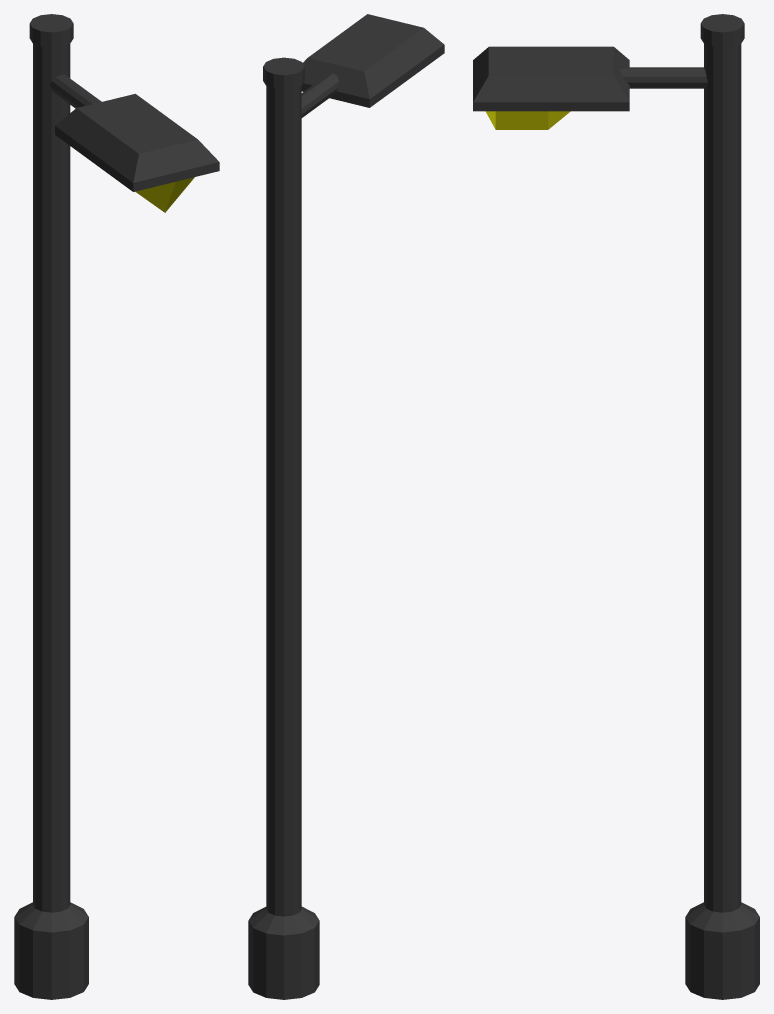
The model's file is Prop_Lamp_003.fbx.
3 views of the same model, side by side, from view 1: azimuth 30°, elevation 25°; view 2: azimuth 150°, elevation 25°; view 3: azimuth 270°, elevation 25° (orthographic). The views are drawn at different scales.
Visible parts, largest first — view 1: Prop_Lamp_003; view 2: Prop_Lamp_003; view 3: Prop_Lamp_003.
Part boxes in pixels (x1=…): Prop_Lamp_003: x1=14, y1=14, x2=219, y2=999; Prop_Lamp_003: x1=248, y1=14, x2=444, y2=999; Prop_Lamp_003: x1=473, y1=14, x2=759, y2=999.
Bounding box in the file's own units: 0.3485 × 3.71 × 1.
